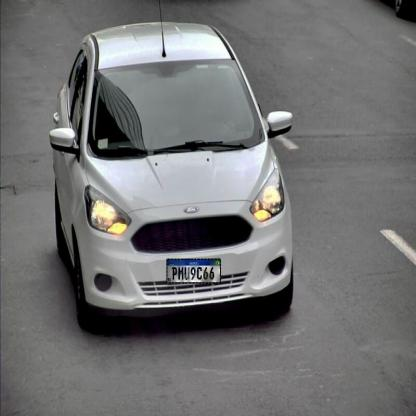PlacaM: (166, 258, 221, 284)
